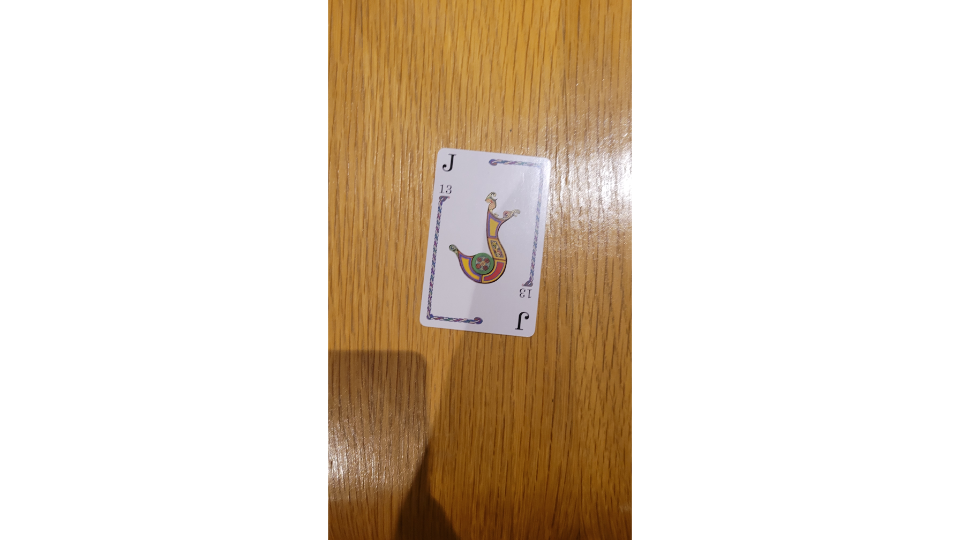J: (416, 146, 554, 340)
